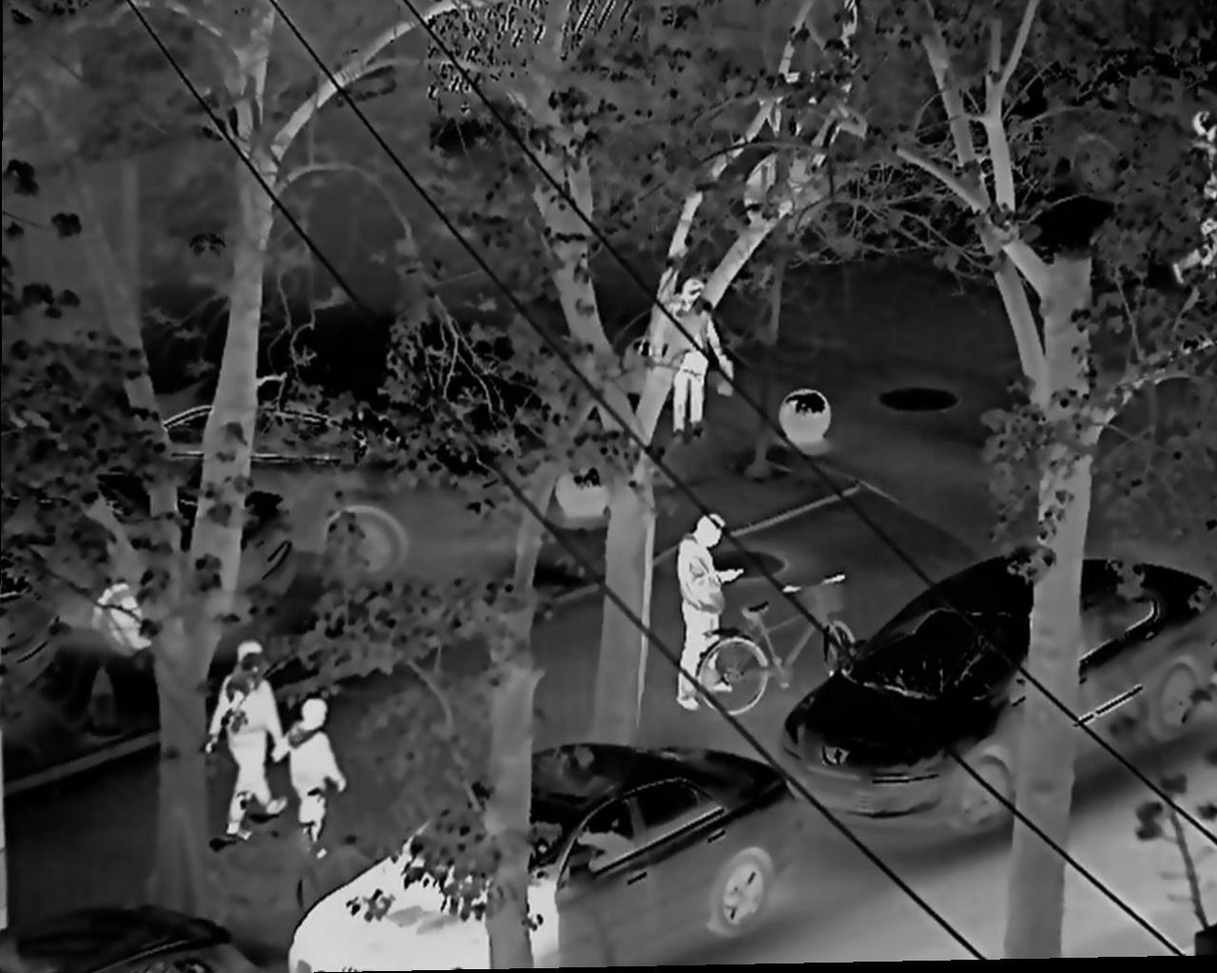person: (209, 642, 287, 830), (672, 510, 742, 713), (268, 698, 348, 860), (663, 281, 737, 446)
